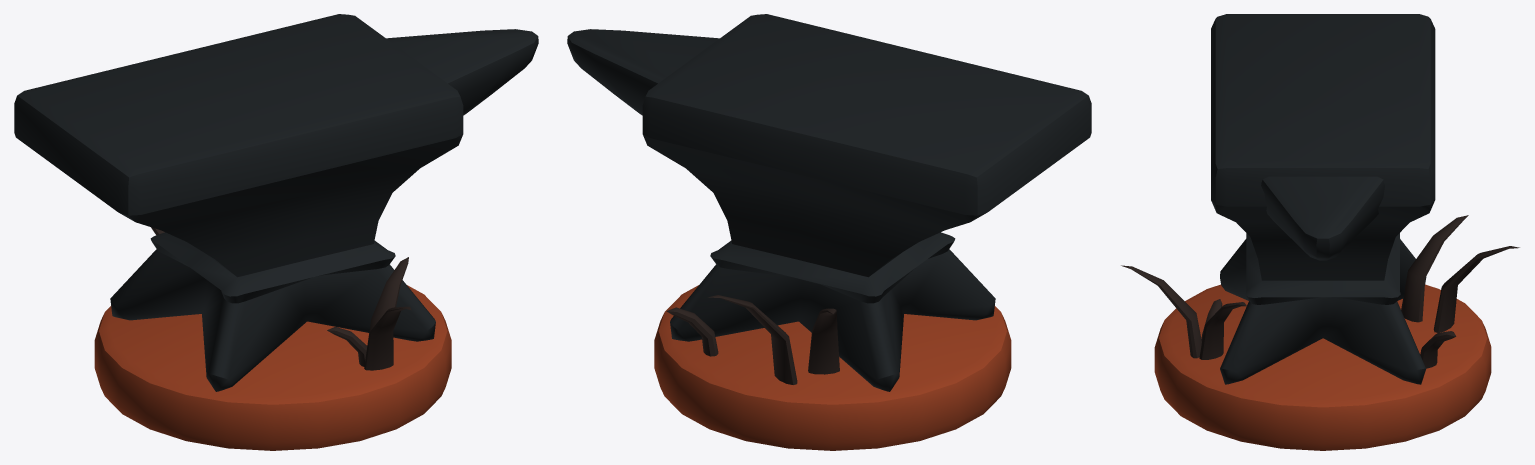
File: anvil_base.obj
The picture shows the model from 3 angles, left to right: view 1: azimuth 30°, elevation 25°; view 2: azimuth 150°, elevation 25°; view 3: azimuth 270°, elevation 25°; orthographic projection. The views are drawn at different scales.
Parts seen in each view (by area): view 1: anvil_base_Cube.035; view 2: anvil_base_Cube.035; view 3: anvil_base_Cube.035.
Boxes of the visible parts, x1=… form: anvil_base_Cube.035: x1=14, y1=14, x2=538, y2=450; anvil_base_Cube.035: x1=567, y1=14, x2=1091, y2=450; anvil_base_Cube.035: x1=1121, y1=14, x2=1519, y2=450.
Bounding box in the file's own units: 0.9083 × 0.5532 × 0.7147.
